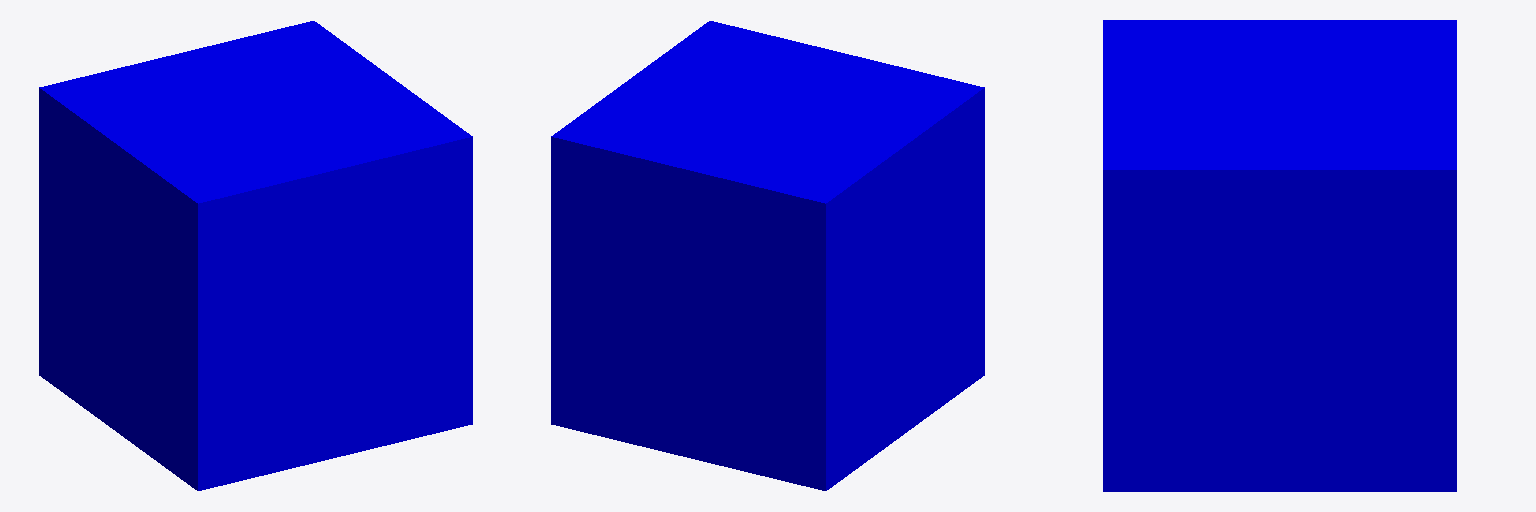
URDF robot description (simple_two_axis_robot):
<?xml version="1.0" ?>
<robot name="simple_two_axis_robot">
  <!-- ===================== base_box - link1 ==============================================-->
  <!-- base_box -->
  <link name="box_link">
    <!--見た目の定義-->
    <visual>
      <!--linkの原点からのオフセット-->
      <origin xyz="0 0 0" rpy="0 0 0"/>
      <geometry>
        <!--base_boxのサイズ（見た目）を指定-->
        <box size="1 1 1"/>
      </geometry>
      <!--色の指定-->
      <material name="blue">
        <color rgba="0 0 1 1"/>
      </material>
    </visual>

    <!--衝突の定義（特段の理由がなければ、基本的にvisualタグと同じ設定でよい-->
    <collision>
      <!--linkの原点からのオフセット-->
      <origin xyz="0 0 0" rpy="0 0 0"/>
      <geometry>
        <!--base_boxのサイズ（衝突領域）を指定-->
        <box size="1 1 1"/>
      </geometry>
      <!--衝突に関する設定なので、materialタグはない-->
    </collision>

    <!--イナーシャ（慣性）に関する設定-->
    <inertial>
        <!--linkの原点からのオフセット-->
        <origin xyz="0 0 0" rpy="0 0 0" />
        <!--linkの重量-->
        <mass value="1" />
        <!--イナーシャ-->
        <inertia ixx="0.000034533333" 
            ixy="0"  ixz="0"
            iyx="0"  iyy="0.000034533333" 
            iyz="0"
            izx="0"  izy="0"  izz="0.0000648" />
    </inertial>
  </link>
</robot>

--- What the picture shows (computed from the rendered views, not written in the file) ---
3 views of the same robot in one strip: view 1: azimuth 30°, elevation 25°; view 2: azimuth 150°, elevation 25°; view 3: azimuth 270°, elevation 25° (orthographic).
Robot: simple_two_axis_robot — 1 links, 0 joints (none); root link box_link; default pose: all joints at 0.
Visible links, largest first — view 1: box_link; view 2: box_link; view 3: box_link.
Boxes of the visible links, <box> form: box_link: <box>39,21,472,490</box>; box_link: <box>551,21,984,490</box>; box_link: <box>1103,20,1456,491</box>.
Size in the robot's own frame: 1 by 1 by 1 metres.
Geometry: primitives only (box / cylinder / sphere), no mesh files.
